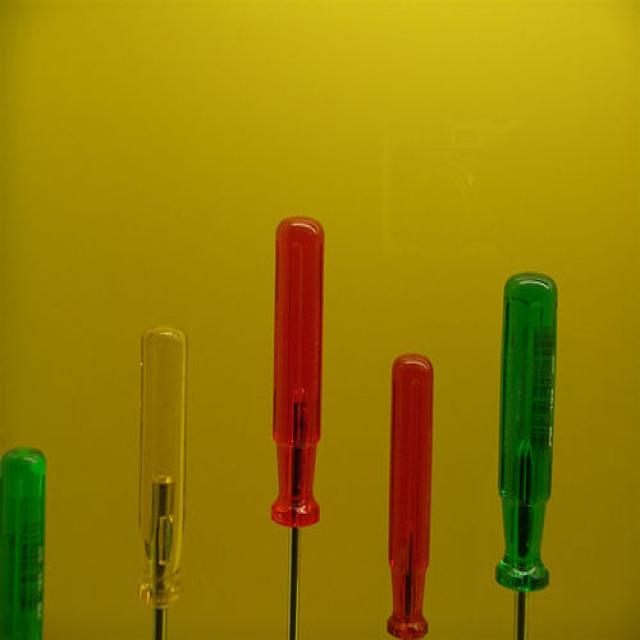screw driver: (252, 193, 356, 640), (472, 230, 574, 640), (115, 291, 220, 640)
